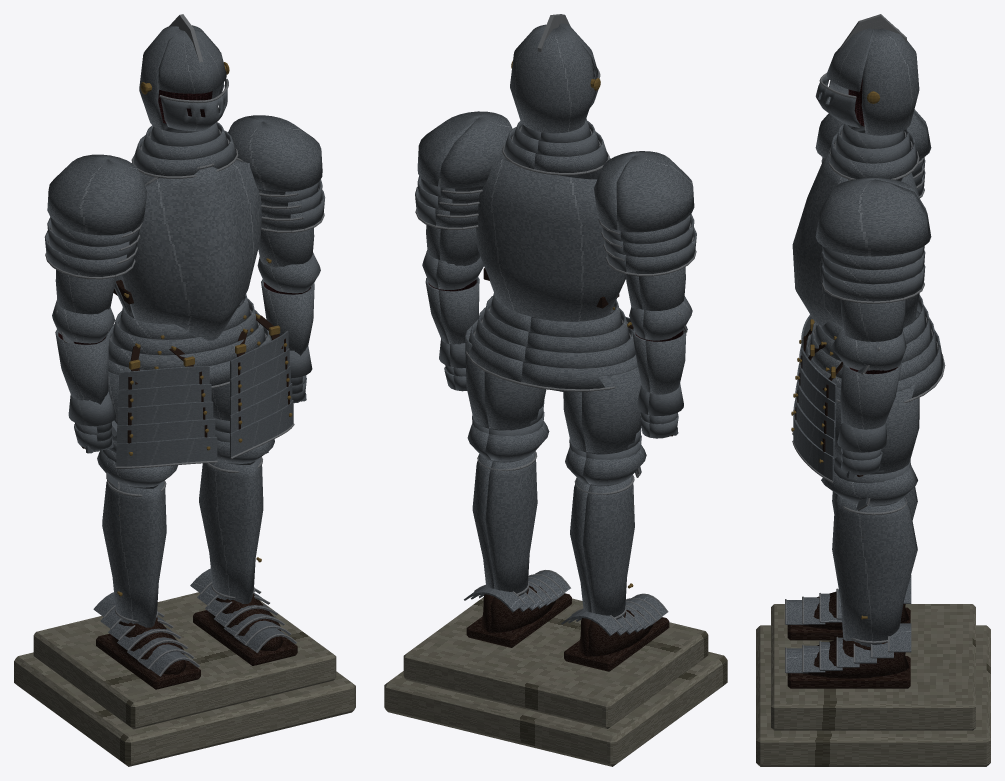
The model's file is dense-armour.glb.
3 views of the same model, side by side, from view 1: azimuth 30°, elevation 25°; view 2: azimuth 150°, elevation 25°; view 3: azimuth 270°, elevation 25° (orthographic). The views are drawn at different scales.
Parts seen in each view (by area): view 1: Ridged breastplate, Exhibit plinth crown, Exhibit plinth foot, Calf and ridged greave, Calf and ridged greave.001, Shaped pauldron cap, Shaped pauldron cap.001, Helmet brow and crown, Tapered forearm vambrace, Left tasset articulated lame 4, Tapered forearm vambrace.001, Articulated waist lame 1 (+35 smaller); view 2: Exhibit plinth crown, Separate backplate, Exhibit plinth foot, Calf and ridged greave.001, Calf and ridged greave, Helmet skull, Shaped pauldron cap, Shaped pauldron cap.001, Shaped cuisse, Shaped cuisse.001, Articulated waist lame 3, Articulated waist lame 2 (+25 smaller); view 3: Exhibit plinth crown, Exhibit plinth foot, Calf and ridged greave.001, Shaped pauldron cap.001, Helmet skull, Ridged breastplate, Tapered forearm vambrace.001, Shaped cuisse.001, Upper arm rerebrace.001, Elbow couter.001, Shaped knee cop.001, Pauldron descending lame.007 (+28 smaller).
Boxes of the visible parts, left/top/right/bottom form: Ridged breastplate: left=120, top=160, right=261, bottom=340; Exhibit plinth crown: left=33, top=592, right=336, bottom=729; Exhibit plinth foot: left=14, top=652, right=355, bottom=766; Calf and ridged greave: left=102, top=481, right=166, bottom=627; Calf and ridged greave.001: left=199, top=457, right=263, bottom=603; Shaped pauldron cap: left=47, top=154, right=147, bottom=235; Shaped pauldron cap.001: left=228, top=115, right=322, bottom=191; Helmet brow and crown: left=157, top=30, right=226, bottom=93; Tapered forearm vambrace: left=55, top=329, right=108, bottom=404; Left tasset articulated lame 4: left=116, top=437, right=217, bottom=466; Tapered forearm vambrace.001: left=261, top=279, right=314, bottom=355; Articulated waist lame 1: left=111, top=298, right=258, bottom=355; Exhibit plinth crown: left=403, top=597, right=708, bottom=728; Separate backplate: left=475, top=154, right=625, bottom=321; Exhibit plinth foot: left=384, top=652, right=727, bottom=766; Calf and ridged greave.001: left=472, top=452, right=537, bottom=595; Calf and ridged greave: left=570, top=476, right=634, bottom=619; Helmet skull: left=510, top=25, right=595, bottom=133; Shaped pauldron cap: left=594, top=151, right=694, bottom=232; Shaped pauldron cap.001: left=417, top=111, right=512, bottom=188; Shaped cuisse: left=563, top=366, right=641, bottom=454; Shaped cuisse.001: left=465, top=325, right=546, bottom=430; Articulated waist lame 3: left=469, top=319, right=637, bottom=389; Articulated waist lame 2: left=475, top=307, right=635, bottom=368; Exhibit plinth crown: left=771, top=604, right=975, bottom=730; Exhibit plinth foot: left=756, top=625, right=990, bottom=766; Calf and ridged greave.001: left=832, top=495, right=917, bottom=647; Shaped pauldron cap.001: left=815, top=177, right=931, bottom=256; Helmet skull: left=861, top=28, right=919, bottom=135; Ridged breastplate: left=792, top=152, right=848, bottom=327; Tapered forearm vambrace.001: left=840, top=362, right=901, bottom=429; Shaped cuisse.001: left=834, top=384, right=919, bottom=473; Upper arm rerebrace.001: left=840, top=299, right=906, bottom=341; Elbow couter.001: left=831, top=328, right=906, bottom=370; Shaped knee cop.001: left=821, top=464, right=917, bottom=505; Pauldron descending lame.007: left=821, top=264, right=925, bottom=302.
Size of the model in its own units: 0.838 by 2.06 by 0.63.
6 materials, 6 textured.
